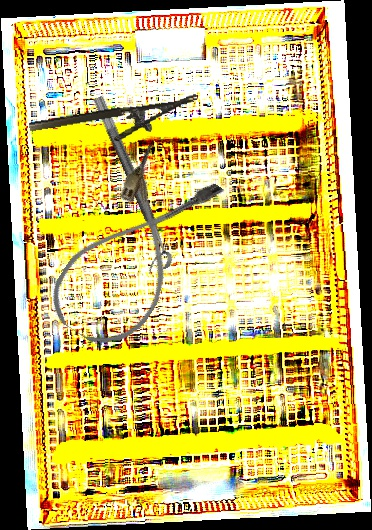Cannula: (38, 140, 230, 361)
Fixation Ring: (78, 94, 176, 276)
Needle Holder: (28, 93, 202, 155)
